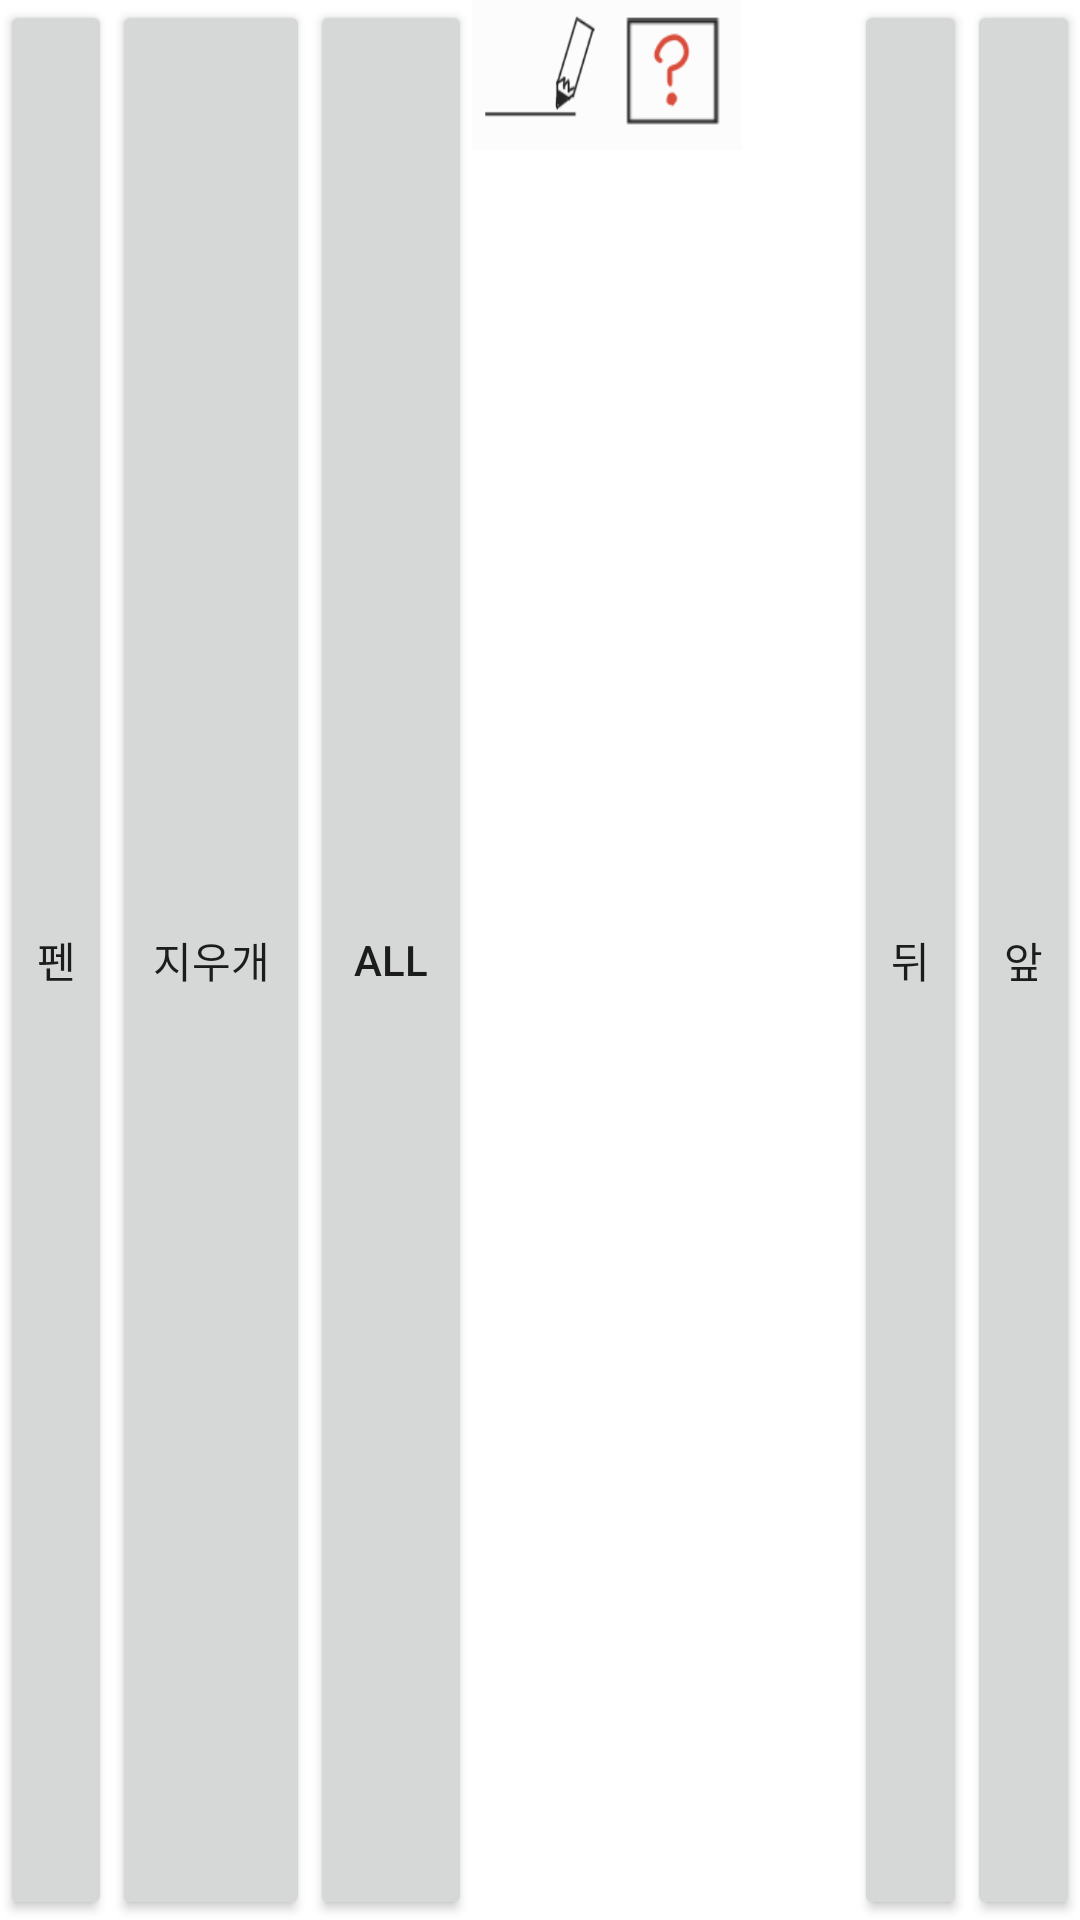

Icon click points for this 1080*1920 phone screenshot, format (x=x, y=y):
random: (x=673, y=71)
